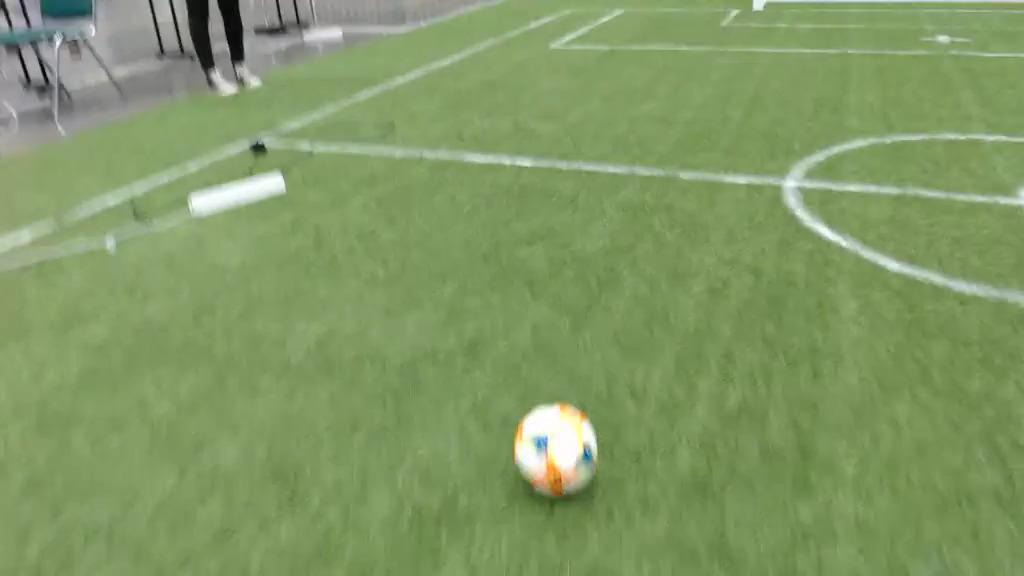ball: (509, 403, 602, 498)
